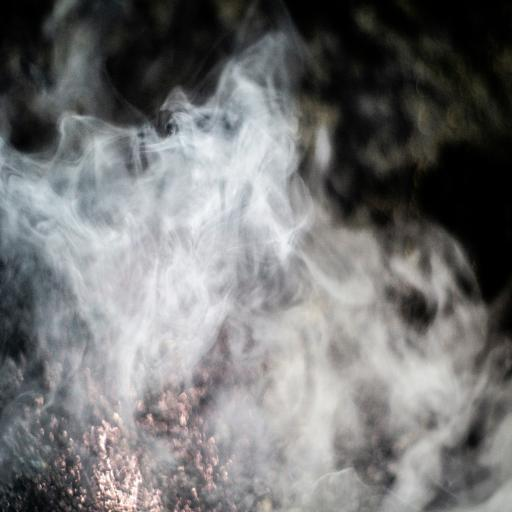smoke: (2, 50, 512, 512)
